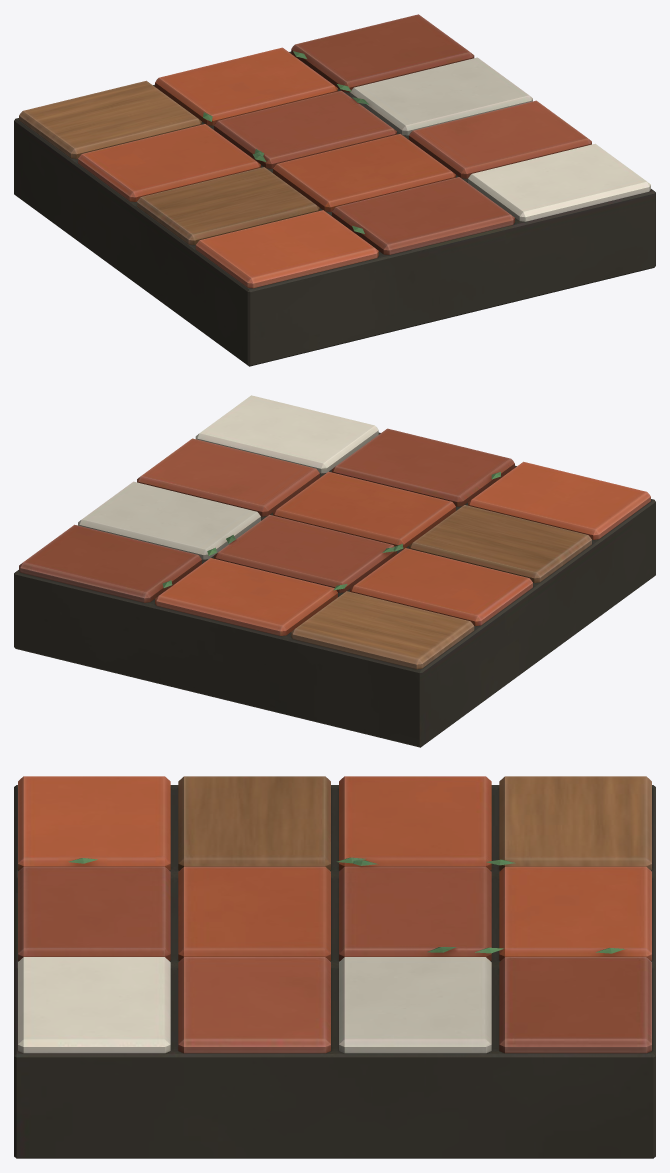
File: kit_floor_commons.glb
3 renders of one model, top to bottom at view 1: azimuth 30°, elevation 25°; view 2: azimuth 150°, elevation 25°; view 3: azimuth 270°, elevation 25°, orthographic. The views are drawn at different scales.
Parts seen in each view (by area): view 1: kit_floor_commons_mesh; view 2: kit_floor_commons_mesh; view 3: kit_floor_commons_mesh.
Boxes of the visible parts, box(x1,y1,x2,y2) form: kit_floor_commons_mesh: box(14, 14, 655, 366); kit_floor_commons_mesh: box(14, 395, 655, 747); kit_floor_commons_mesh: box(14, 776, 655, 1158).
Bounding box in the file's own units: 1 × 0.2068 × 1.
Materials: 1 (1 with a texture image).
